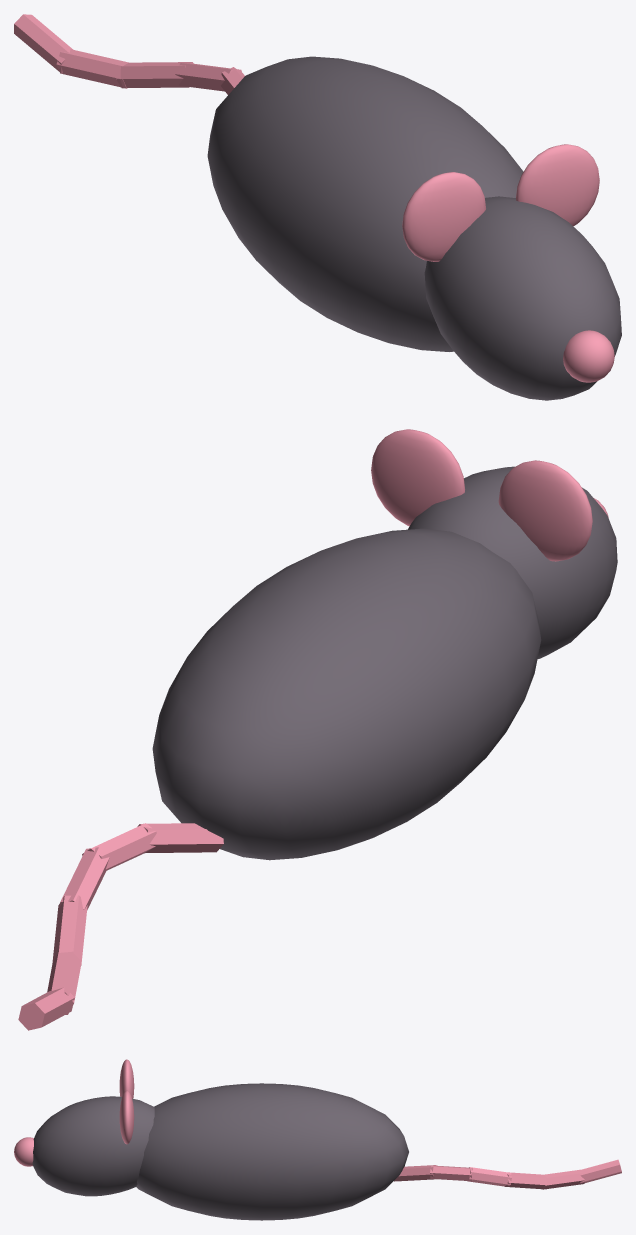
Rendered from Critter_Rat.fbx.
The picture shows the model from 3 angles, top to bottom: view 1: azimuth 30°, elevation 25°; view 2: azimuth 150°, elevation 25°; view 3: azimuth 270°, elevation 25°; orthographic projection. The views are drawn at different scales.
Parts seen in each view (by area): view 1: Critter_Rat; view 2: Critter_Rat; view 3: Critter_Rat.
Part boxes in pixels (box(x1,y1,x2,y2)): Critter_Rat: box(14, 14, 621, 400); Critter_Rat: box(18, 429, 617, 1030); Critter_Rat: box(14, 1059, 621, 1220).
Bounding box in the file's own units: 0.12 × 0.122 × 0.4954.
